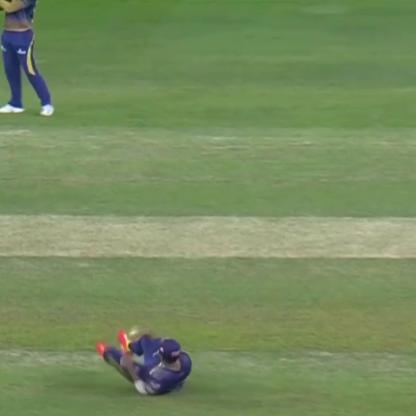ball: (121, 321, 144, 339)
